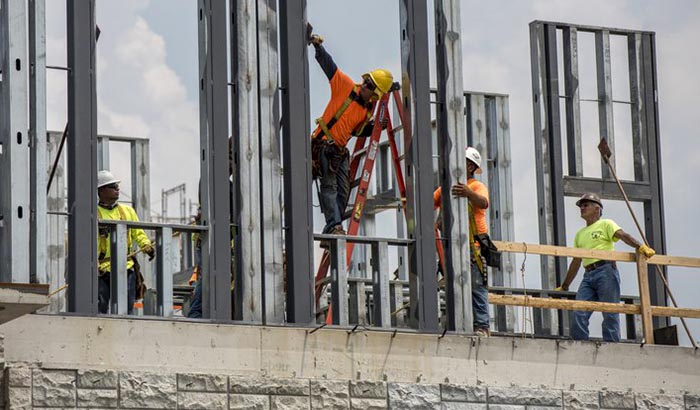Hard Hat: (358, 70, 394, 104), (575, 195, 604, 224), (99, 171, 121, 204), (465, 148, 483, 180)
Person: (305, 35, 394, 234), (564, 197, 643, 343), (433, 150, 492, 337), (95, 170, 158, 315)
